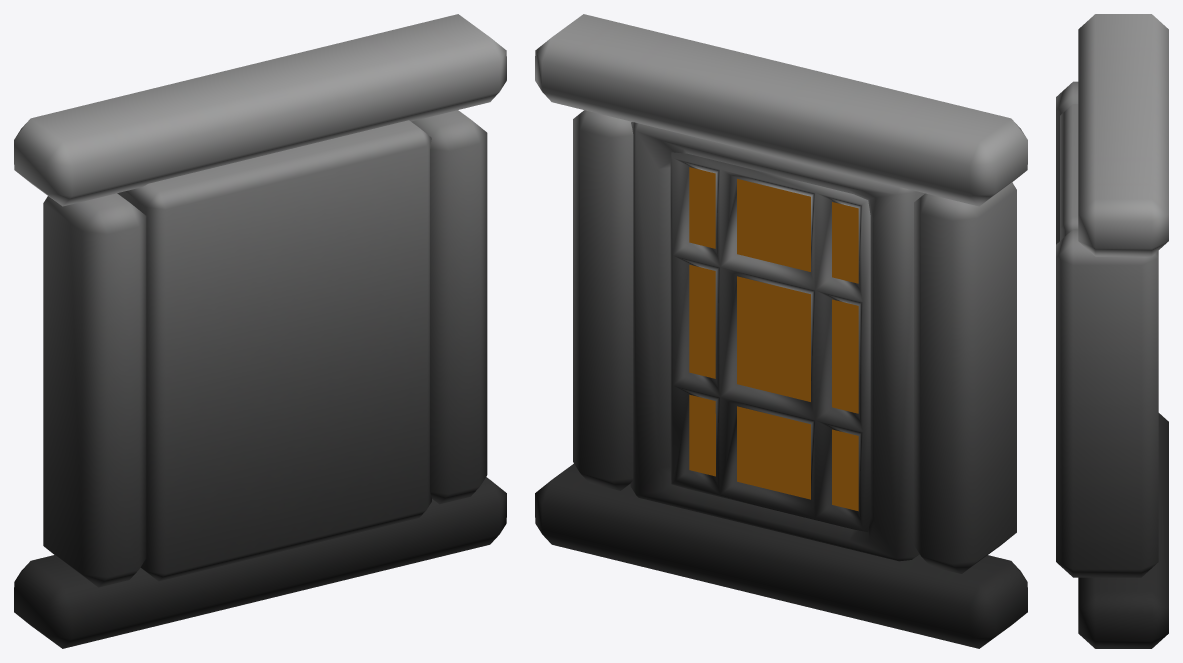
The model's file is SM_Stone_Window_05.fbx.
3 views of the same model, side by side, from view 1: azimuth 30°, elevation 25°; view 2: azimuth 150°, elevation 25°; view 3: azimuth 270°, elevation 25° (orthographic). The views are drawn at different scales.
Visible parts, largest first — view 1: SM_Stone_Window_05; view 2: SM_Stone_Window_05; view 3: SM_Stone_Window_05.
Boxes of the visible parts, bbox=[...] form: SM_Stone_Window_05: bbox=[14, 14, 506, 648]; SM_Stone_Window_05: bbox=[535, 14, 1027, 648]; SM_Stone_Window_05: bbox=[1056, 14, 1168, 648].
Size of the model in its own units: 0.4007 by 0.4216 by 0.0958.
